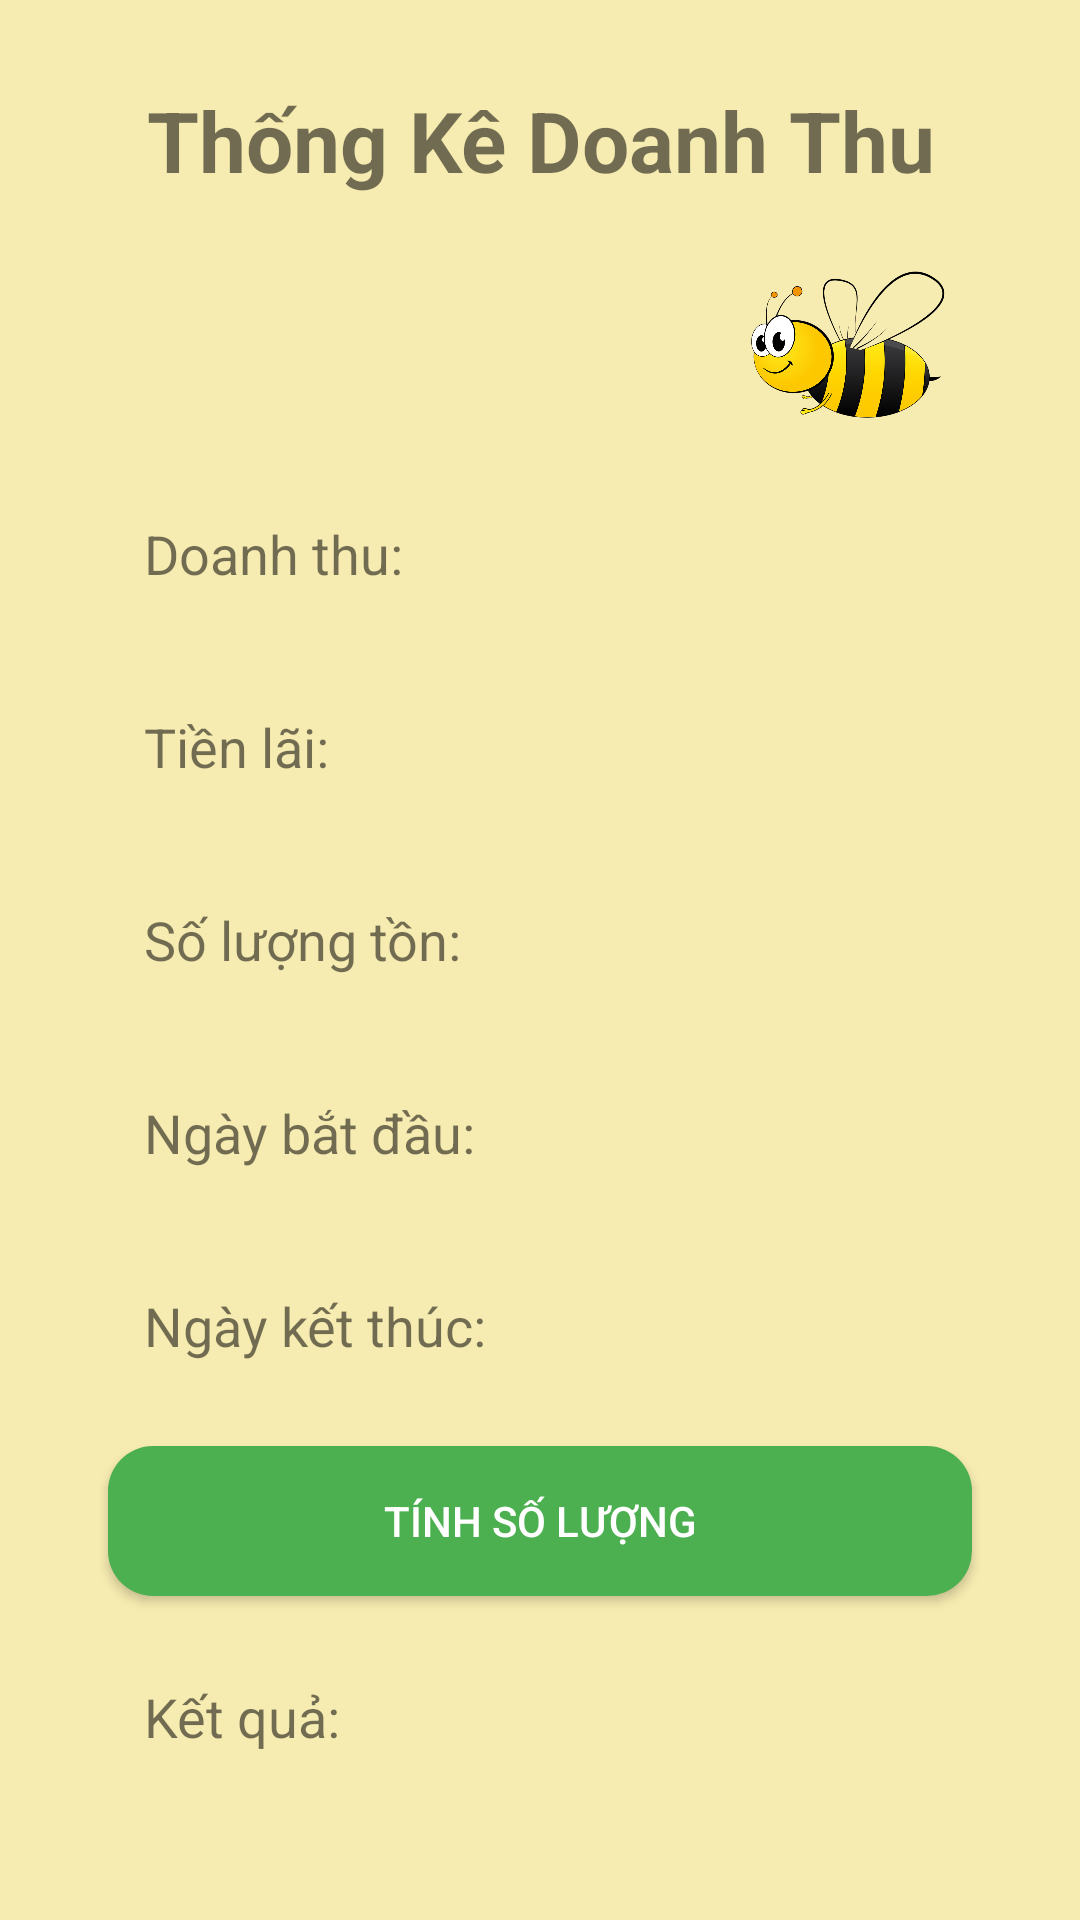

Named icons in this screenshot (1080w x 1920h) and their bounding boxes, box=[x1, y1, x2, y2]:
ong: box=[751, 271, 945, 418]
